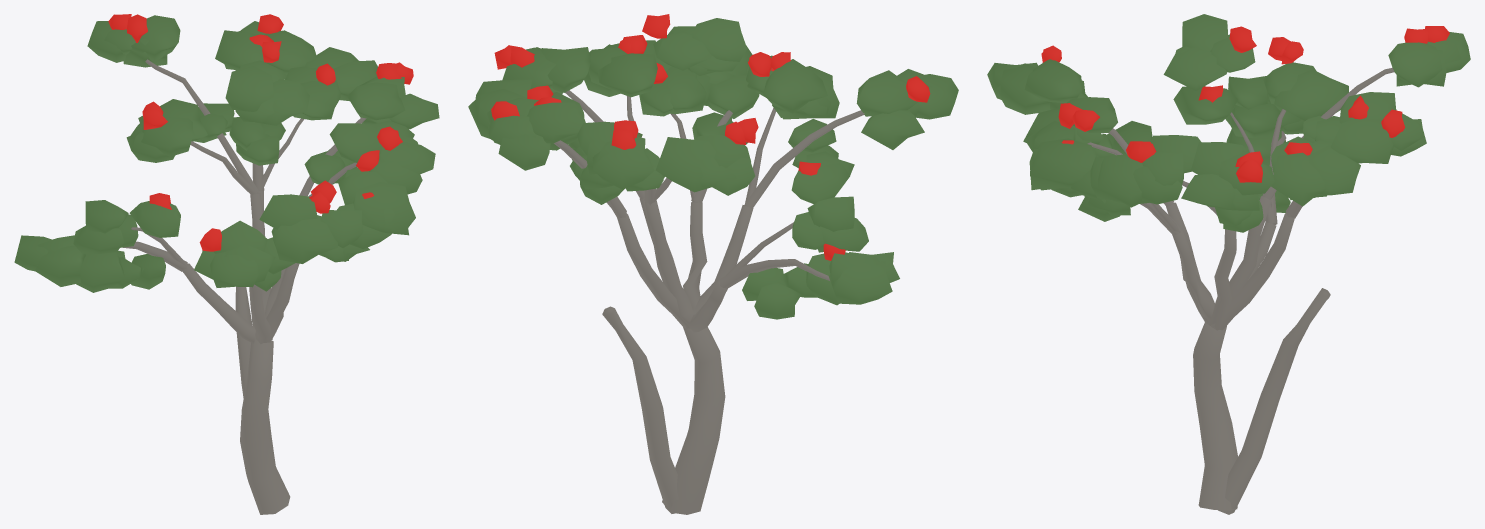
Rendered from Blender_Ohia_1.glb.
3 renders of one model, left to right at view 1: azimuth 30°, elevation 25°; view 2: azimuth 150°, elevation 25°; view 3: azimuth 270°, elevation 25°, orthographic. The views are drawn at different scales.
Visible parts, largest first — view 1: Blender_Ohia_1; view 2: Blender_Ohia_1; view 3: Blender_Ohia_1.
Part boxes in pixels (x1,y1,x2,y2): Blender_Ohia_1: (14,14,439,514); Blender_Ohia_1: (468,14,958,514); Blender_Ohia_1: (987,14,1470,514).
Bounding box in the file's own units: 7.86 × 8.83 × 7.95.
